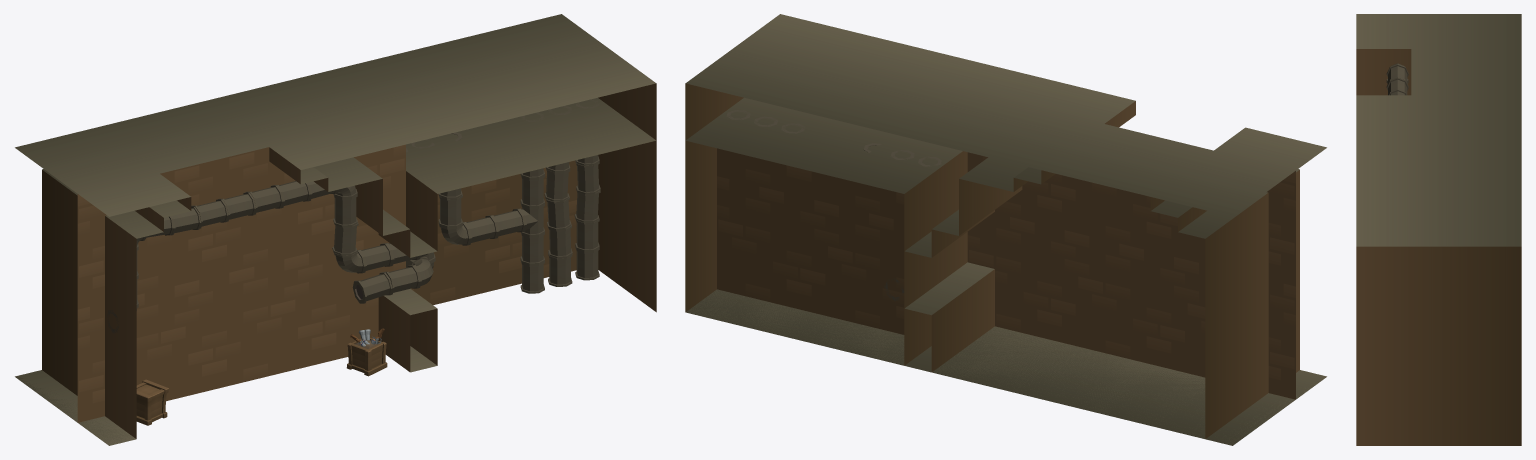
The model's file is Room33_8x20.fbx.
3 renders of one model, left to right at view 1: azimuth 30°, elevation 25°; view 2: azimuth 150°, elevation 25°; view 3: azimuth 270°, elevation 25°, orthographic. The views are drawn at different scales.
Visible parts, largest first — view 1: Room33_8x20; view 2: Room33_8x20; view 3: Room33_8x20.
Boxes of the visible parts, left/top/right/bottom form: Room33_8x20: left=15, top=14, right=656, bottom=445; Room33_8x20: left=685, top=14, right=1326, bottom=445; Room33_8x20: left=1356, top=14, right=1521, bottom=445.
Bounding box in the file's own units: 2000 × 600 × 800.
